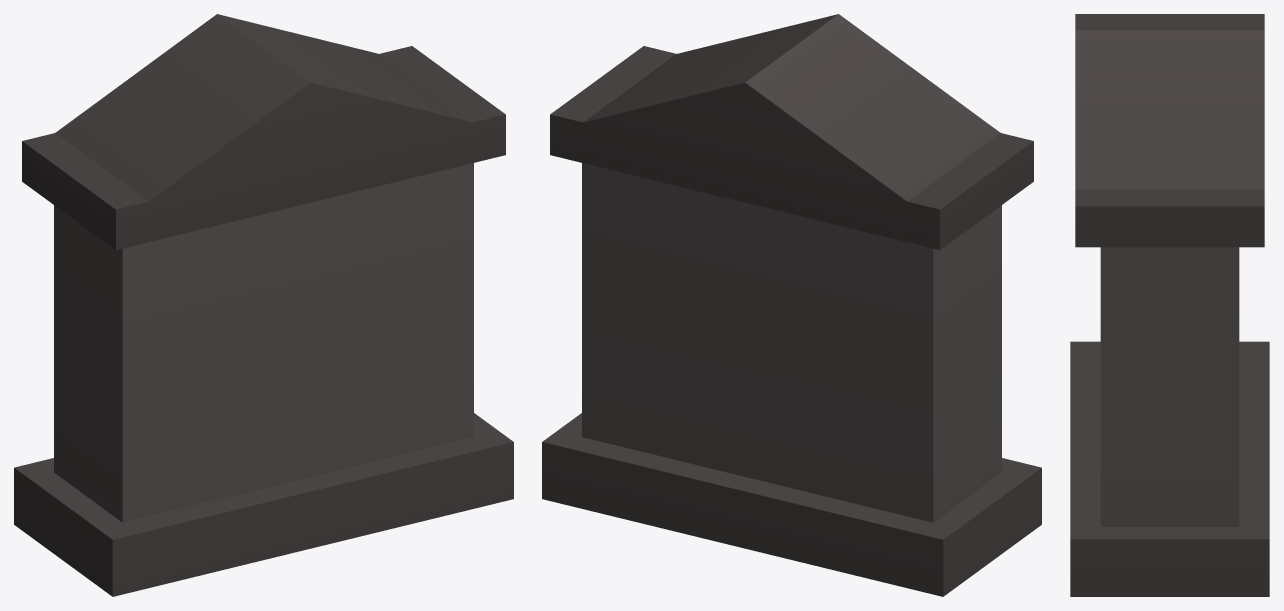
File: Tombstone_3.obj
The picture shows the model from 3 angles, left to right: view 1: azimuth 30°, elevation 25°; view 2: azimuth 150°, elevation 25°; view 3: azimuth 270°, elevation 25°; orthographic projection.
Parts seen in each view (by area): view 1: {mesh}Tombstone_3_Cube.035; view 2: {mesh}Tombstone_3_Cube.035; view 3: {mesh}Tombstone_3_Cube.035.
Boxes of the visible parts, x1,y1,x2,y2 form: {mesh}Tombstone_3_Cube.035: (14,14,513,596); {mesh}Tombstone_3_Cube.035: (542,14,1041,596); {mesh}Tombstone_3_Cube.035: (1070,14,1269,596).
Size of the model in its own units: 52.68 by 58.19 by 22.45.
1 material, 1 textured.
